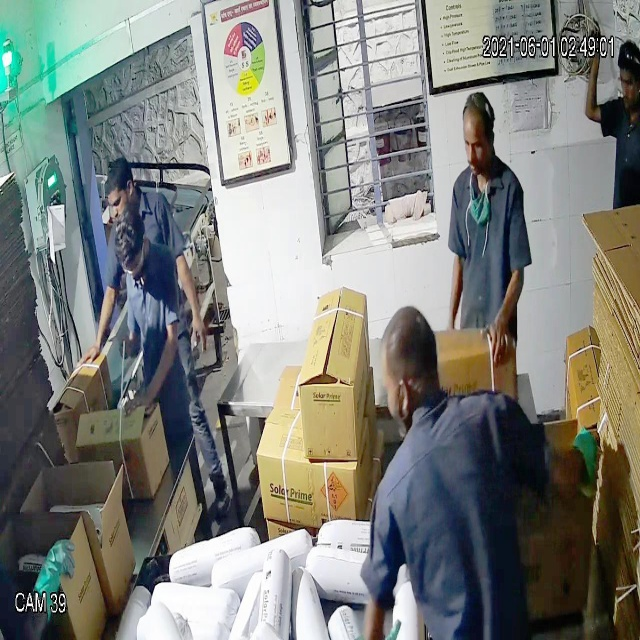Gafas: (119, 248, 150, 284)
Sin_gafas: (460, 129, 497, 160)
